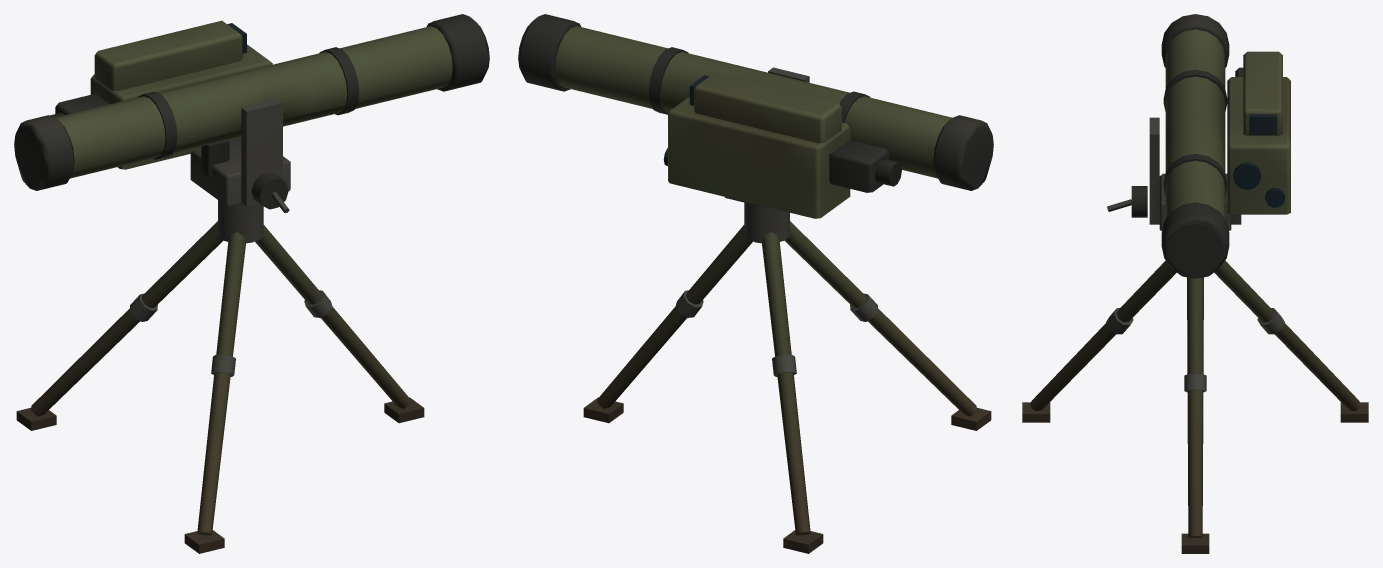
The model's file is atgm_tripod.glb.
The picture shows the model from 3 angles, left to right: view 1: azimuth 30°, elevation 25°; view 2: azimuth 150°, elevation 25°; view 3: azimuth 270°, elevation 25°; orthographic projection. The views are drawn at different scales.
Visible parts, largest first — view 1: gun, atgm, turret; view 2: gun, atgm; view 3: gun, atgm, turret.
Boxes of the visible parts, x1=… form: gun: x1=14, y1=14, x2=489, y2=190; atgm: x1=16, y1=200, x2=424, y2=553; turret: x1=190, y1=99, x2=290, y2=212; gun: x1=518, y1=14, x2=993, y2=218; atgm: x1=583, y1=202, x2=991, y2=553; gun: x1=1161, y1=14, x2=1290, y2=278; atgm: x1=1022, y1=260, x2=1368, y2=553; turret: x1=1107, y1=117, x2=1241, y2=230.
Bounding box in the file's own units: 1.22 × 1.04 × 0.87.
